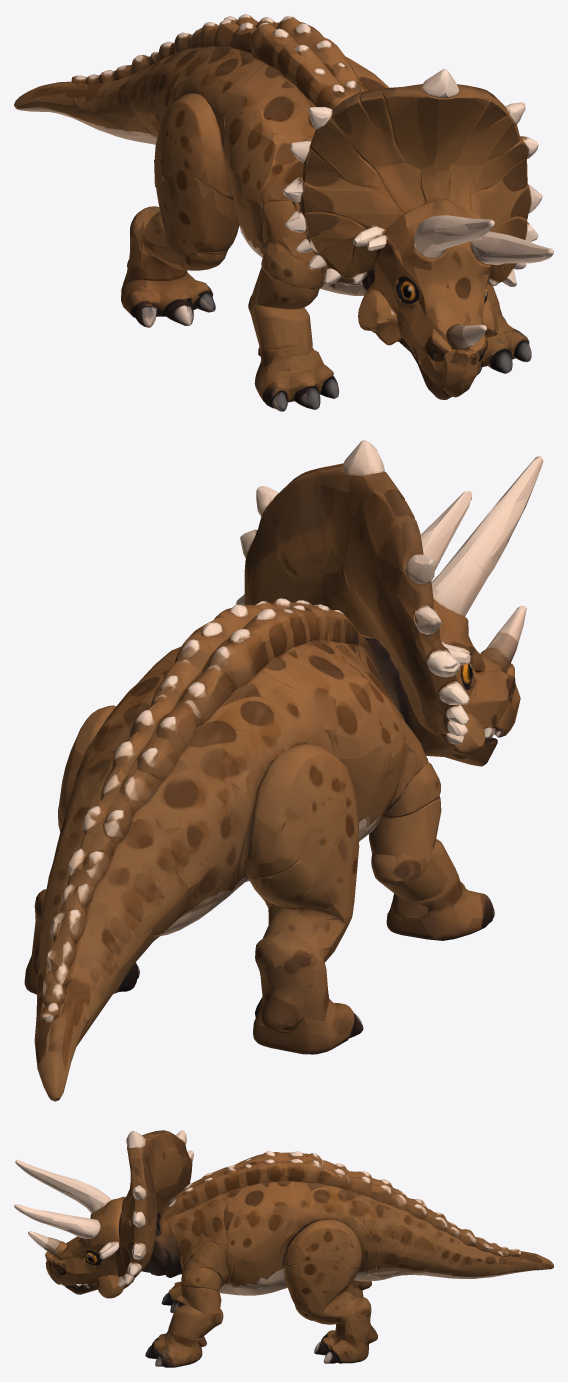
The model's file is triceratops.glb.
3 renders of one model, top to bottom at view 1: azimuth 30°, elevation 25°; view 2: azimuth 150°, elevation 25°; view 3: azimuth 270°, elevation 25°, orthographic. The views are drawn at different scales.
Size of the model in its own units: 0.6576 by 0.7994 by 1.9.
Materials: 1 (1 with a texture image).
